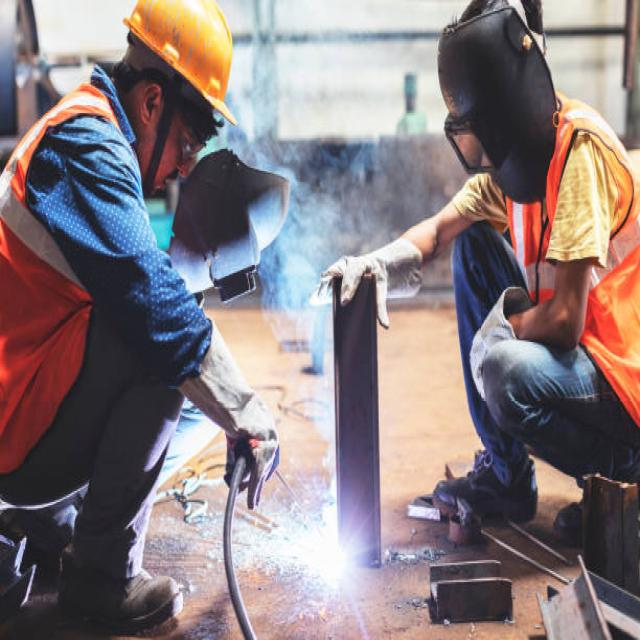with_helmet: (435, 2, 621, 225)
without_helmet: (112, 35, 222, 198)
